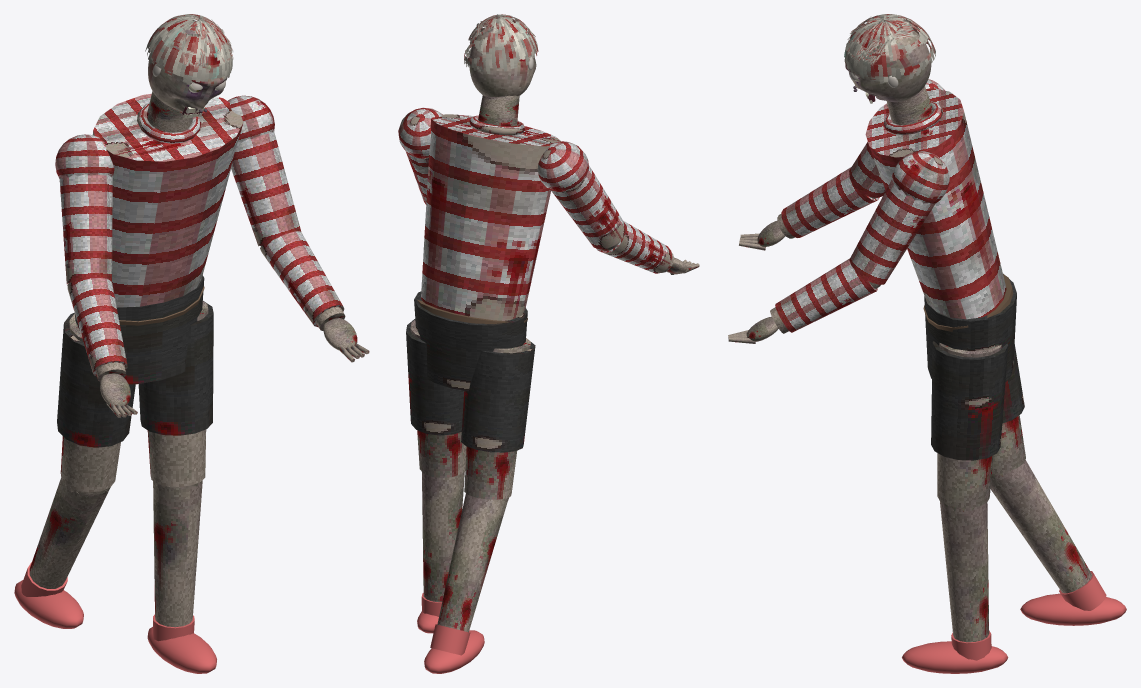
The model's file is Zombie_037.glb.
3 views of the same model, side by side, from view 1: azimuth 30°, elevation 25°; view 2: azimuth 150°, elevation 25°; view 3: azimuth 270°, elevation 25° (orthographic). The views are drawn at different scales.
Parts seen in each view (by area): view 1: Zombie_037, object 45, object 4, object 12, object 18, object 5, object 13; view 2: Zombie_037, object 45, object 18, object 4, object 44; view 3: Zombie_037, object 12, object 45, object 4, object 18.
Part boxes in pixels (x1,y1,x2,y2): Zombie_037: (14,91,301,673); object 45: (145,14,232,82); object 4: (67,278,127,376); object 12: (260,231,344,326); object 18: (148,28,227,112); object 5: (100,373,130,406); object 13: (323,318,357,350); Zombie_037: (398,95,626,673); object 45: (464,14,538,71); object 18: (469,28,536,97); object 4: (596,221,672,273); object 44: (466,17,537,73); Zombie_037: (849,79,1126,673); object 12: (775,258,877,332); object 45: (844,14,935,81); object 4: (781,167,879,237); object 18: (844,24,931,102).
Size of the model in its own units: 0.6924 by 1.8 by 1.01.
16 materials, 6 textured.
